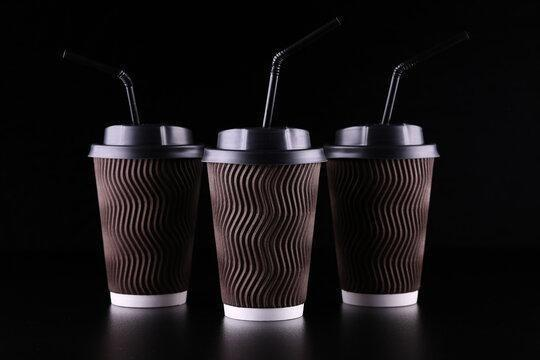cup-disposable: (202, 124, 326, 324), (87, 121, 205, 310), (323, 120, 440, 309)
